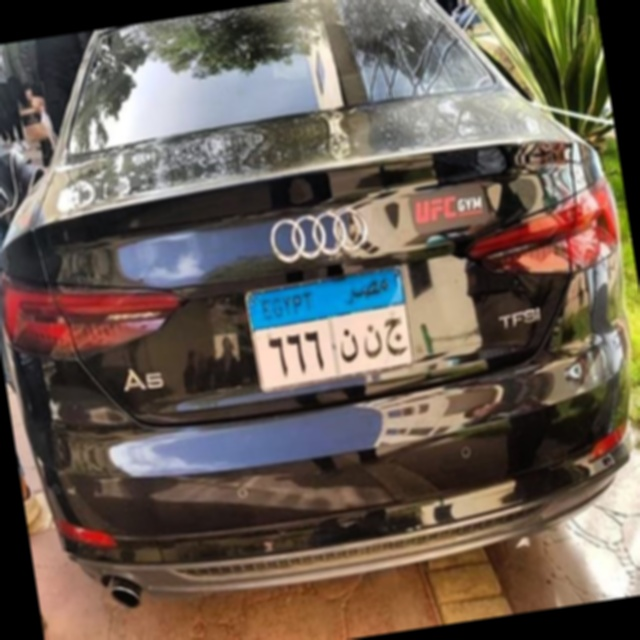License Plate: (239, 262, 420, 398)
